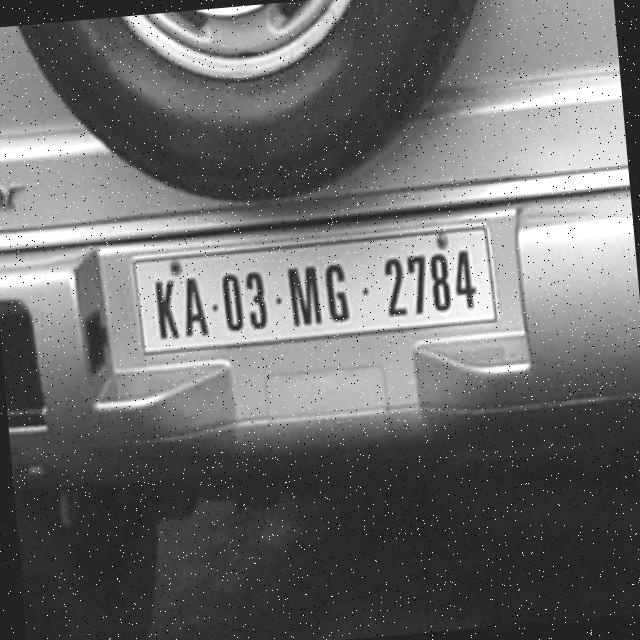Autre: (136, 217, 500, 354)
